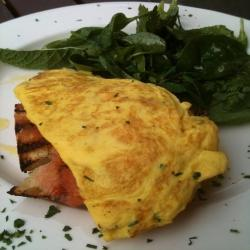omelette: (20, 68, 232, 238)
salad: (55, 17, 245, 88)
